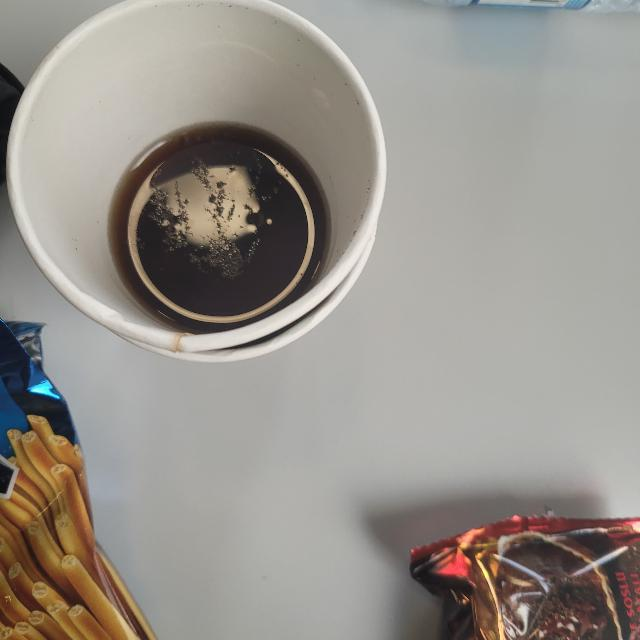Kagit: (6, 0, 395, 373)
Plastik: (0, 325, 170, 640), (411, 505, 640, 640)
